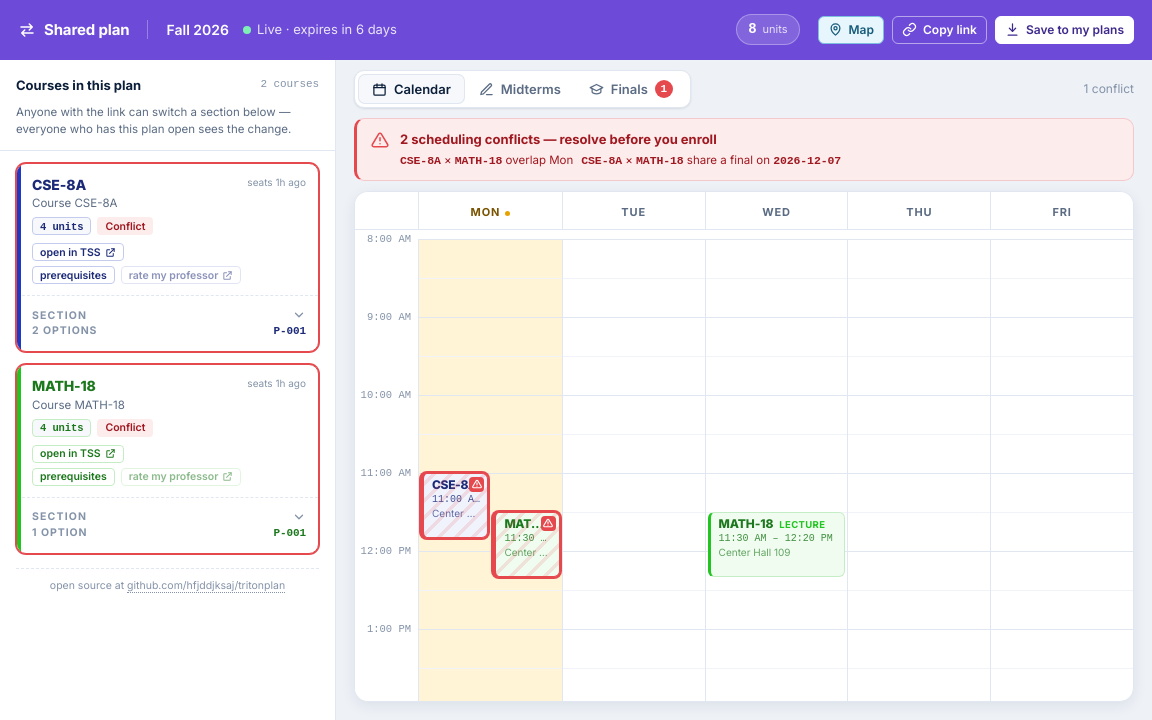
it: SharedPlanPage › says nothing that only fits your own plan: no refreshing seats from TSS
Click the button "Section 2 options P-001". click: click(60, 315)
box: top-left (32, 306), bottom-right (306, 339)
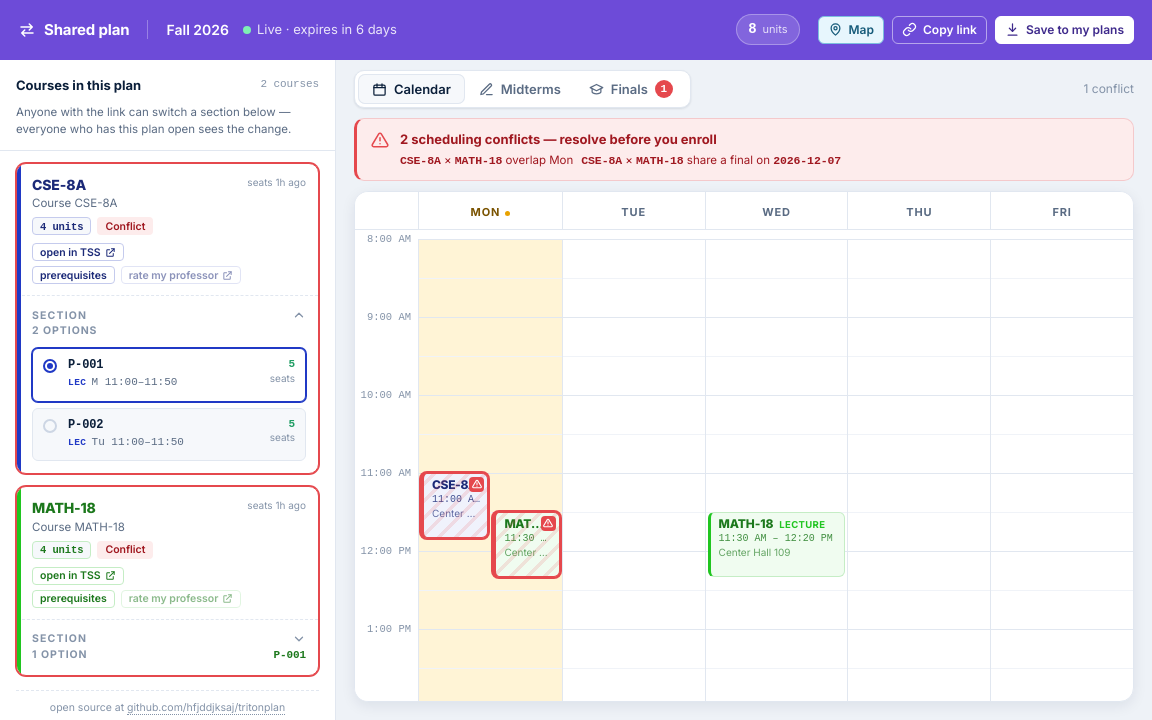
Hover over the 1st text with class "course-card__fresh" at (277, 182), box top-left (247, 174), bottom-right (306, 188)
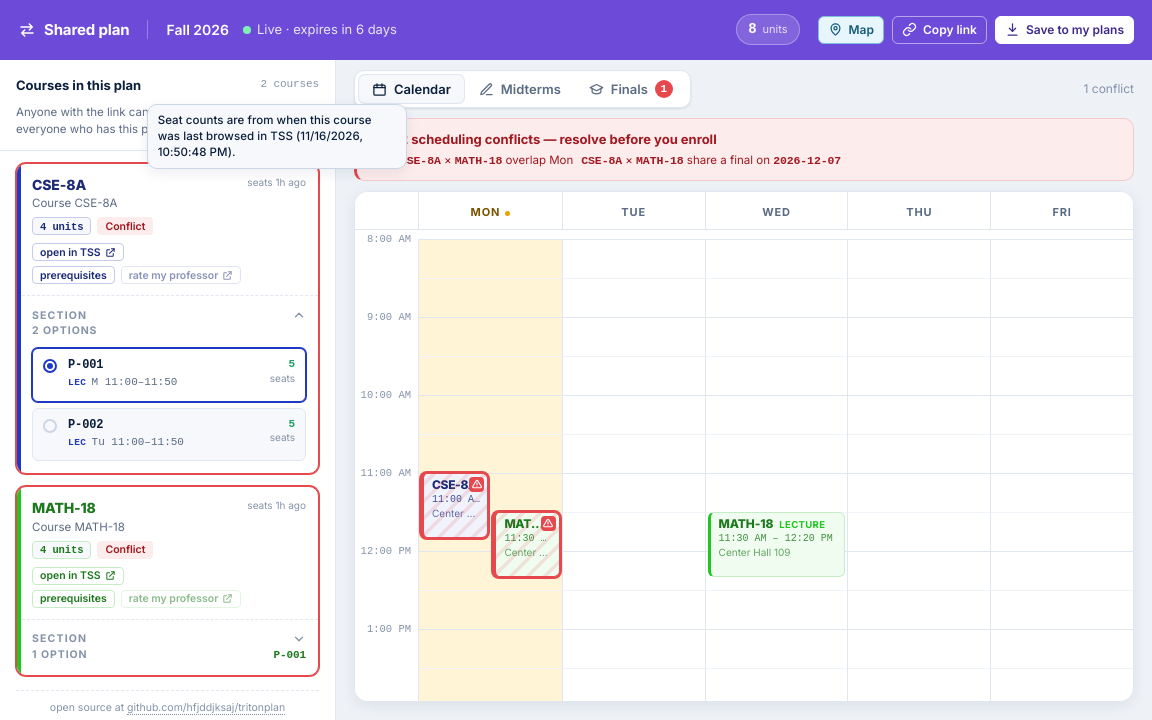
Result: the text "Seat counts are from when this course was last browsed in TSS" is shown at top-left (158, 113), bottom-right (372, 160)
